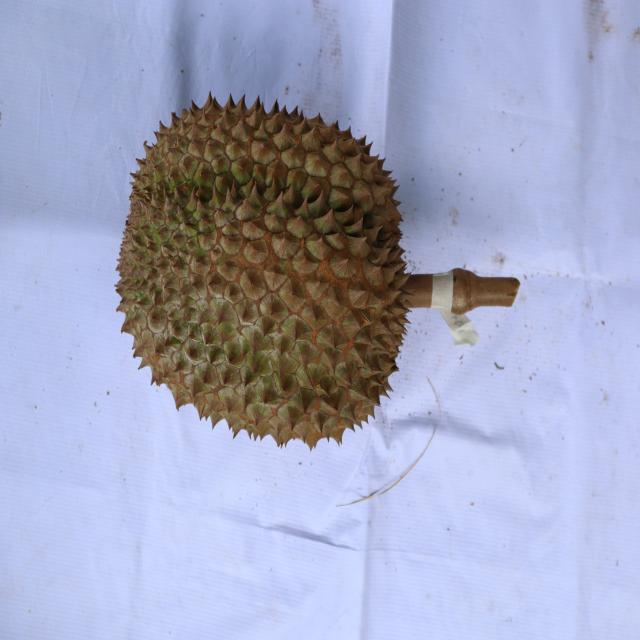mature: (111, 87, 417, 456)
